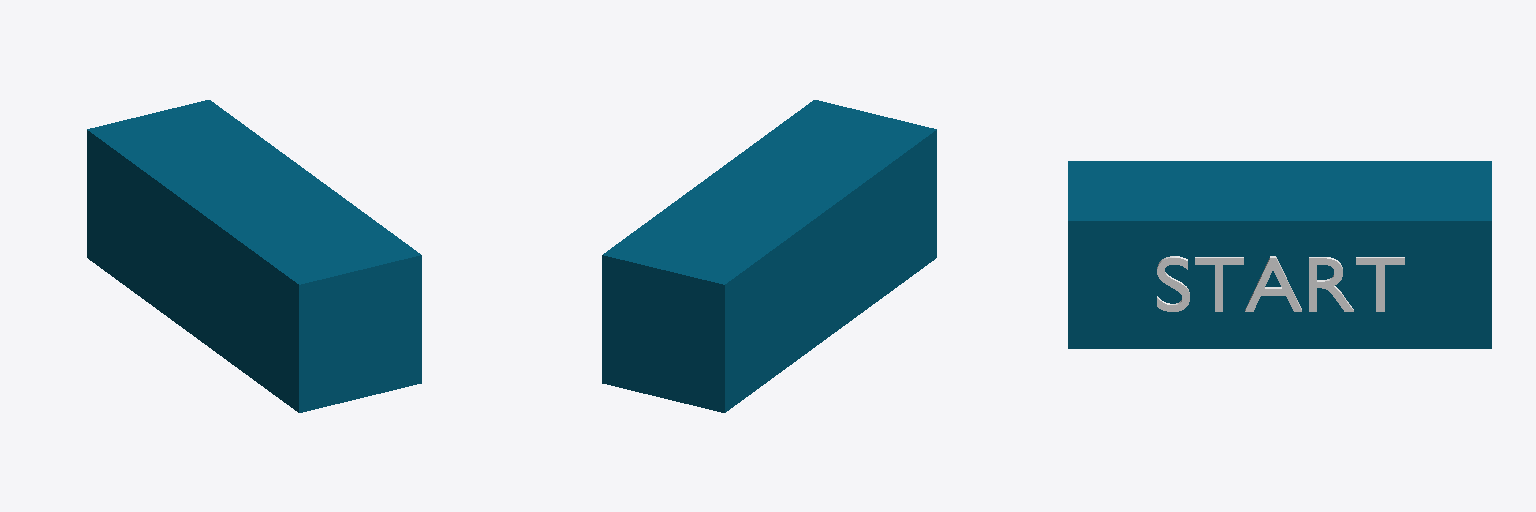
File: startbegin.obj
3 views of the same model, side by side, from view 1: azimuth 30°, elevation 25°; view 2: azimuth 150°, elevation 25°; view 3: azimuth 270°, elevation 25° (orthographic).
Parts seen in each view (by area): view 1: Cube; view 2: Cube; view 3: Cube, Text.
Boxes of the visible parts, x1,y1,x2,y2 form: Cube: [87, 100, 421, 412]; Cube: [602, 100, 936, 412]; Cube: [1068, 161, 1491, 348]; Text: [1157, 256, 1404, 311].
Bounding box in the file's own units: 2.05 × 2 × 6.